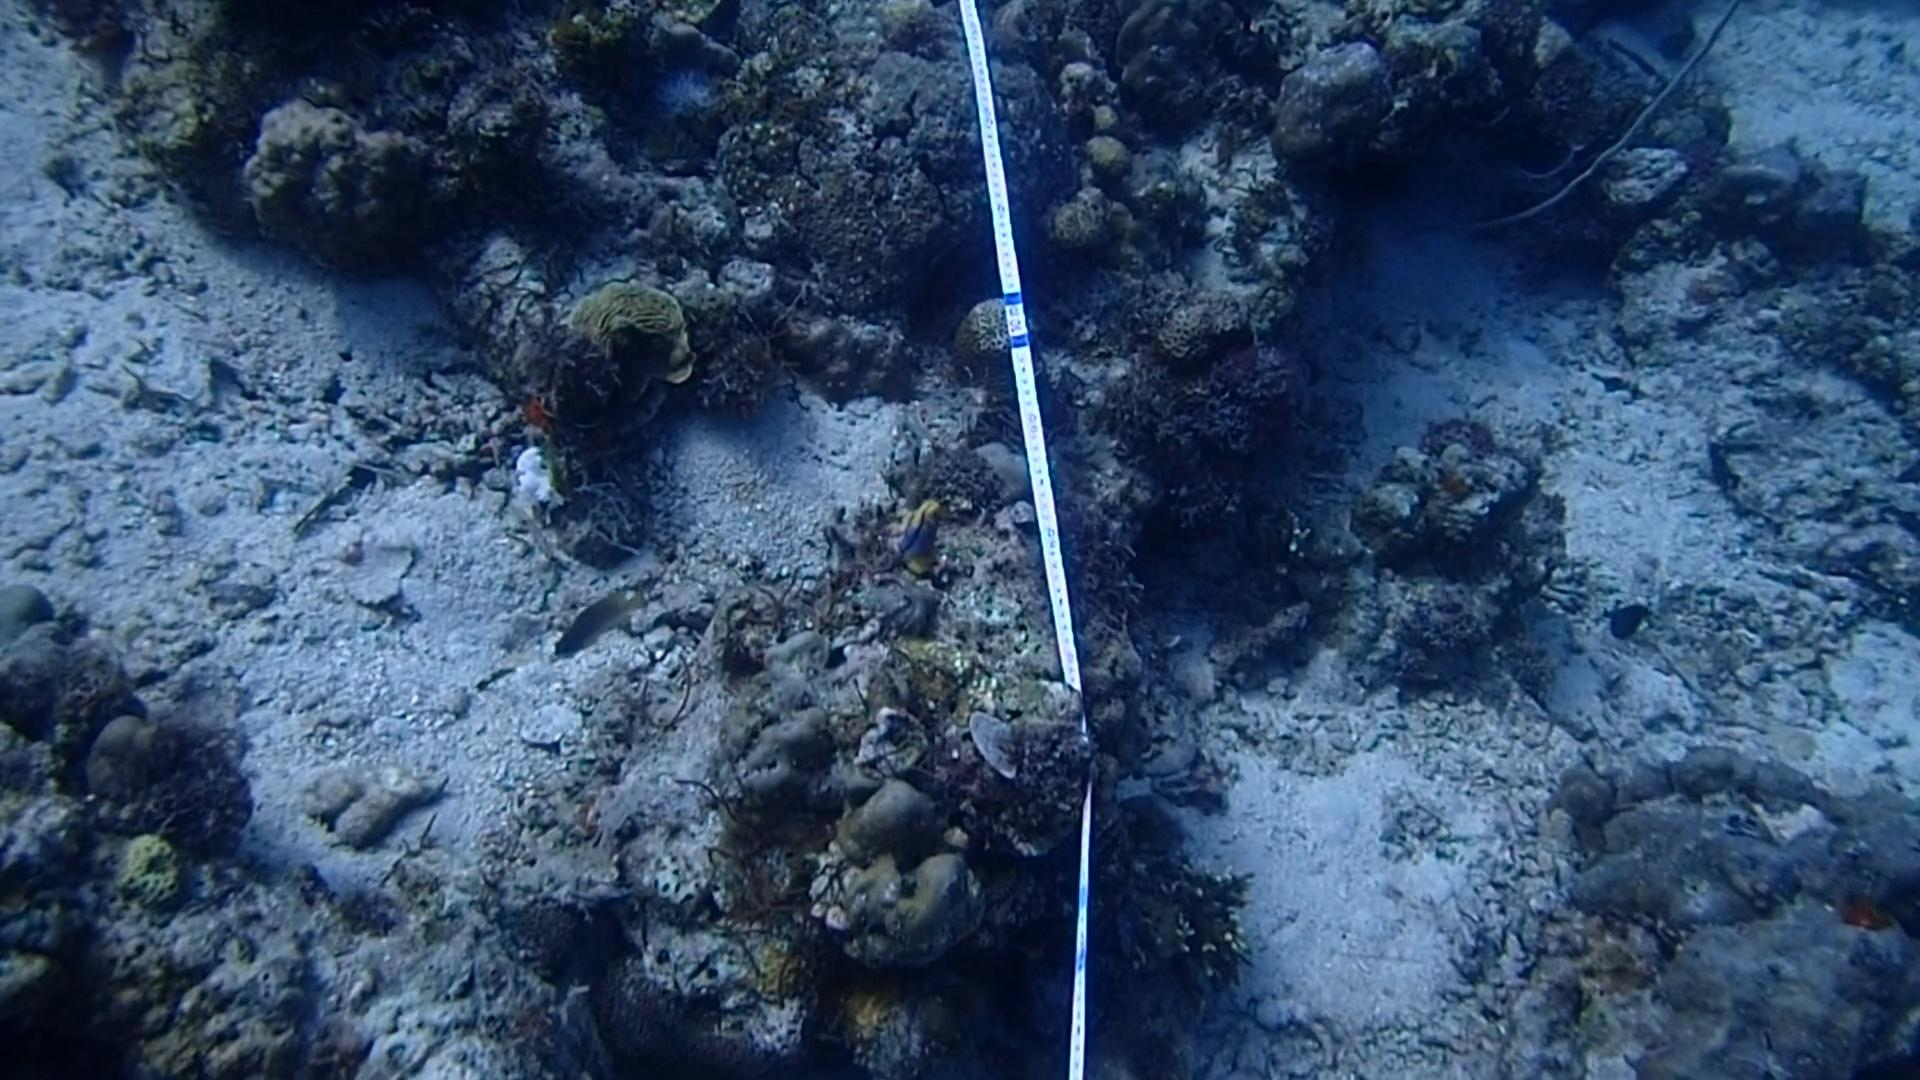Dark Fish: (1605, 596, 1652, 649)
Light Fish: (542, 582, 659, 669)
